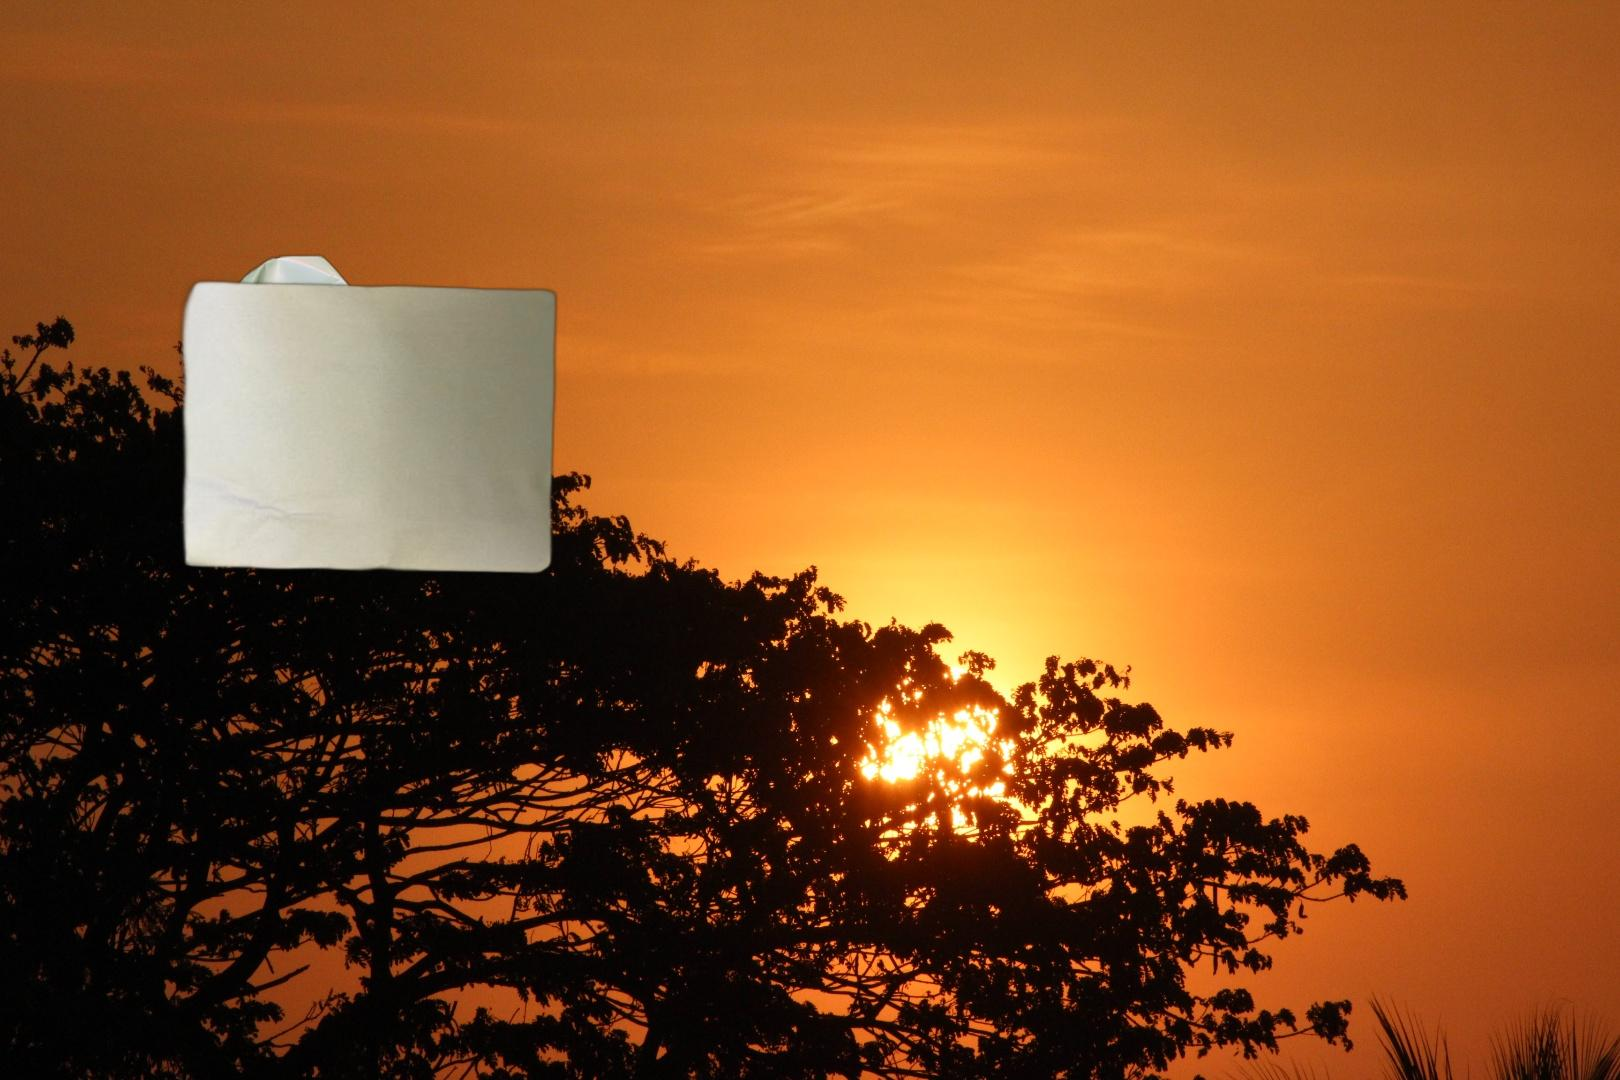metal-cans: (225, 250, 363, 385)
paper: (175, 239, 560, 577)
